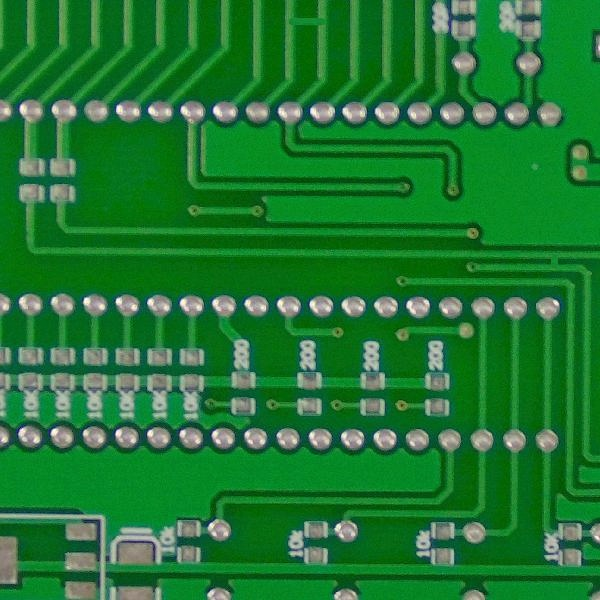short: (276, 6, 335, 34), (540, 247, 568, 273)
